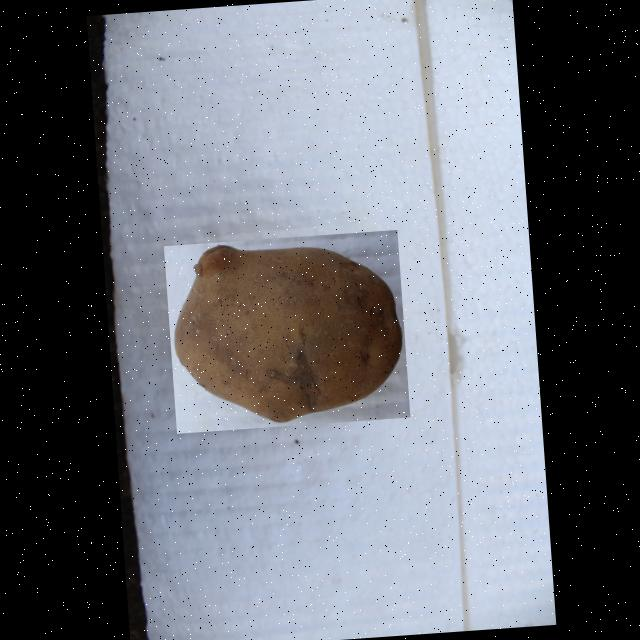Damaged potato: (162, 230, 409, 433)
